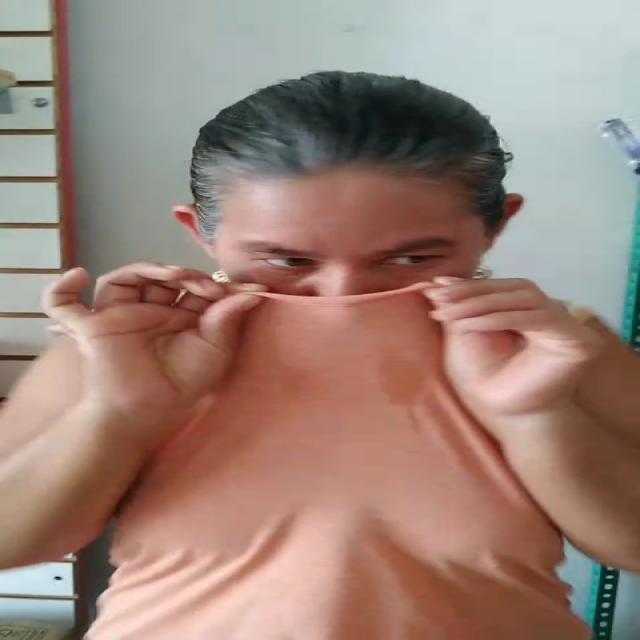8_ropa_rostro: (144, 265, 527, 376)
